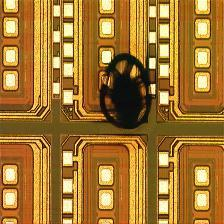PARTICLE: (95, 52, 159, 136)
